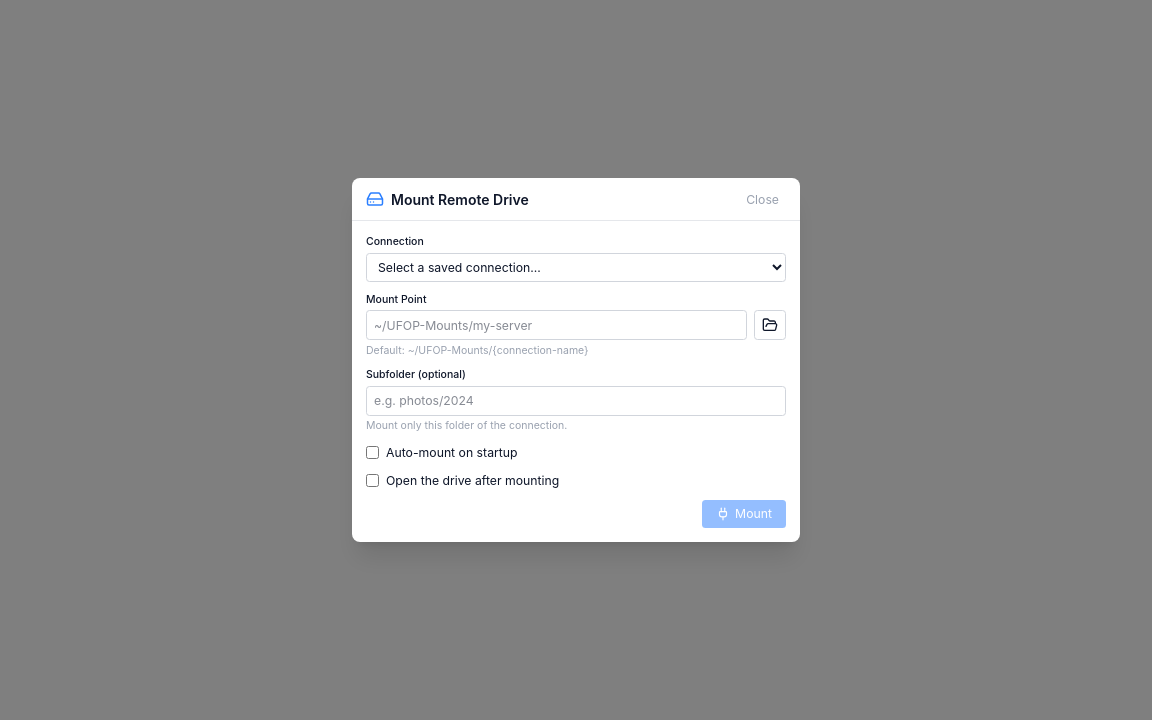
Test: subfolder and open after mounting › mounts a subfolder of an SFTP connection and asks to open it
Select "nas (SFTP - h)" in the dropdown labelled "Connection" at [576, 268], box [366,253,786,282]
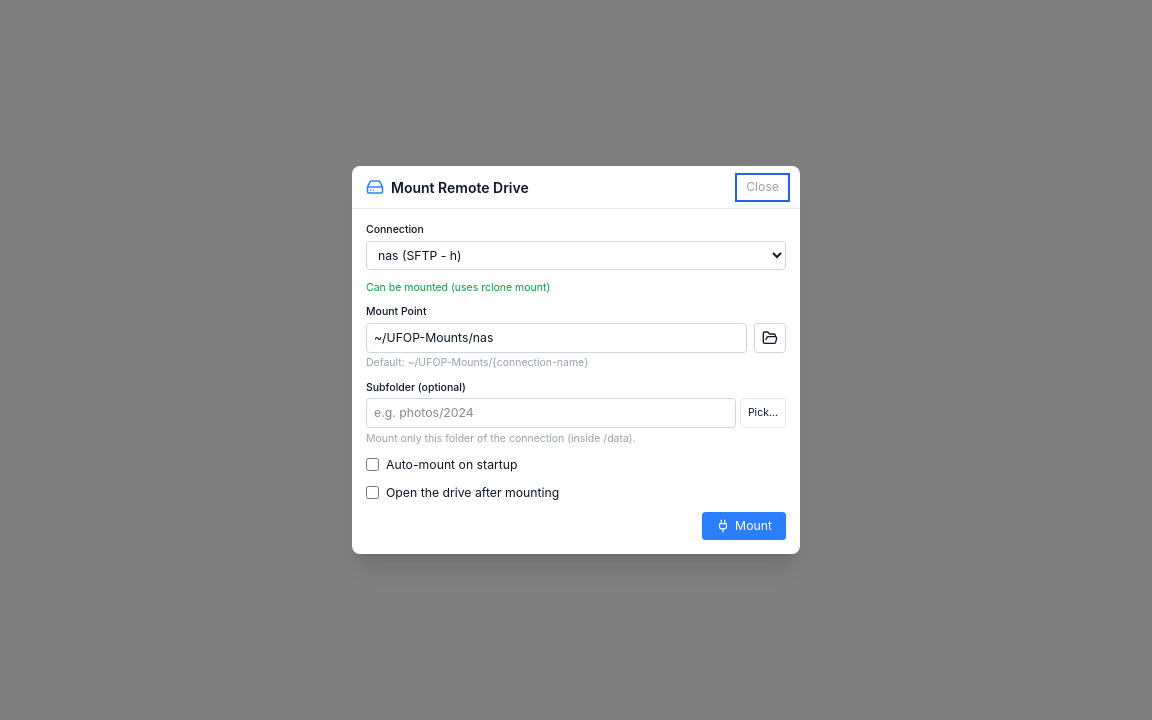
Expected: the text "Can be mounted (uses rclone mount)" is shown, [366,280,550,294]
Type "projects/2024" into the field labelled "Subfolder (optional)" at [551, 413], box [366,398,736,428]
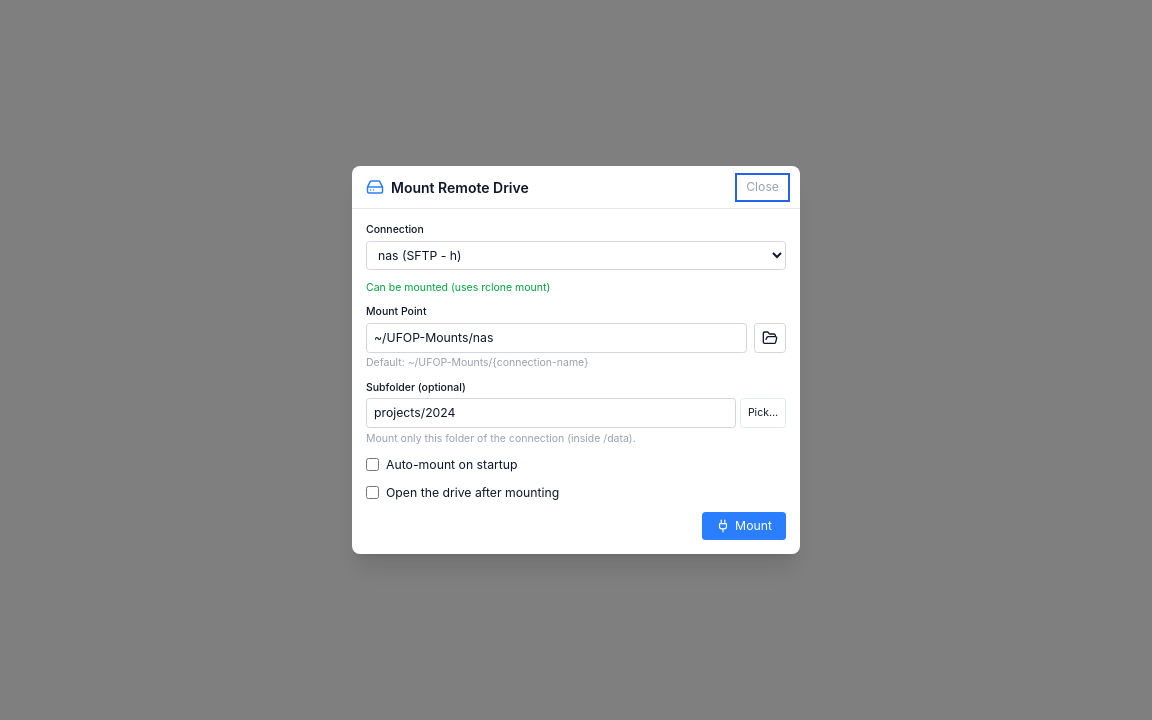
Click the text "Open the drive after mounting" at [463, 492], box [366,485,559,500]
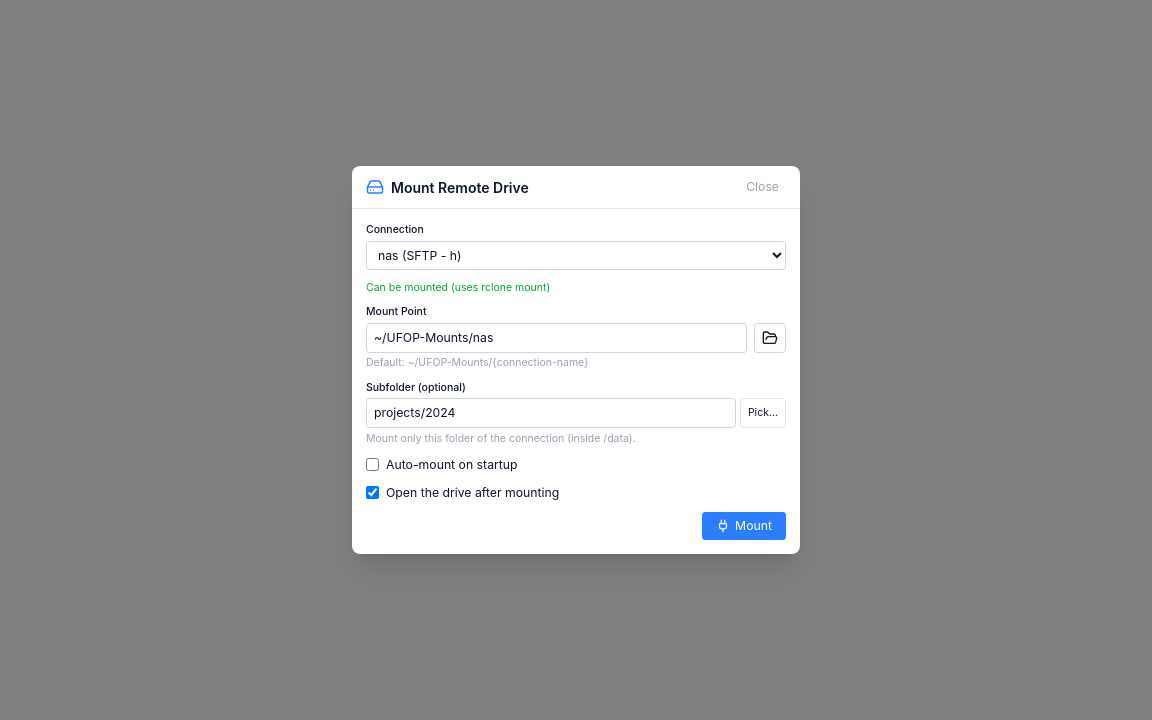
Click the button "Mount" at [744, 526], box [702,512,786,540]
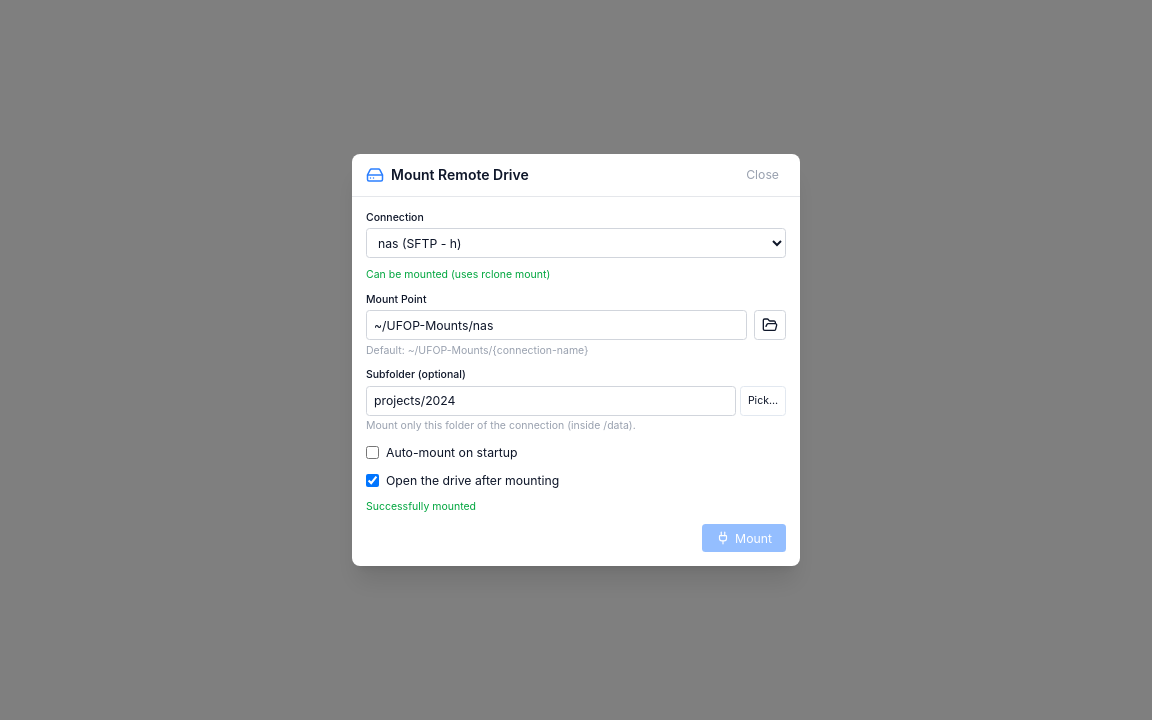
Expected: the message reads "Successfully mounted", [366,500,476,513]
